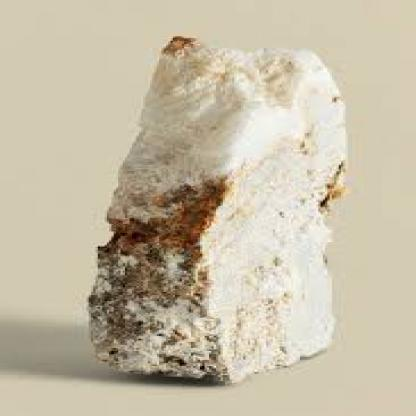Metamorphic_Marble: (84, 27, 352, 383)
